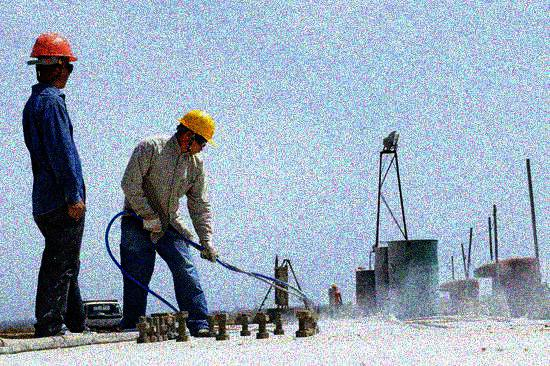helmet: (28, 30, 78, 91), (176, 108, 217, 155)
